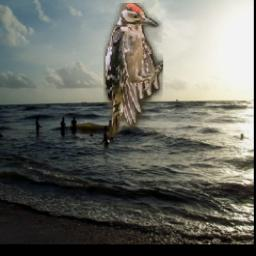Woodpecker: (103, 4, 163, 138)
